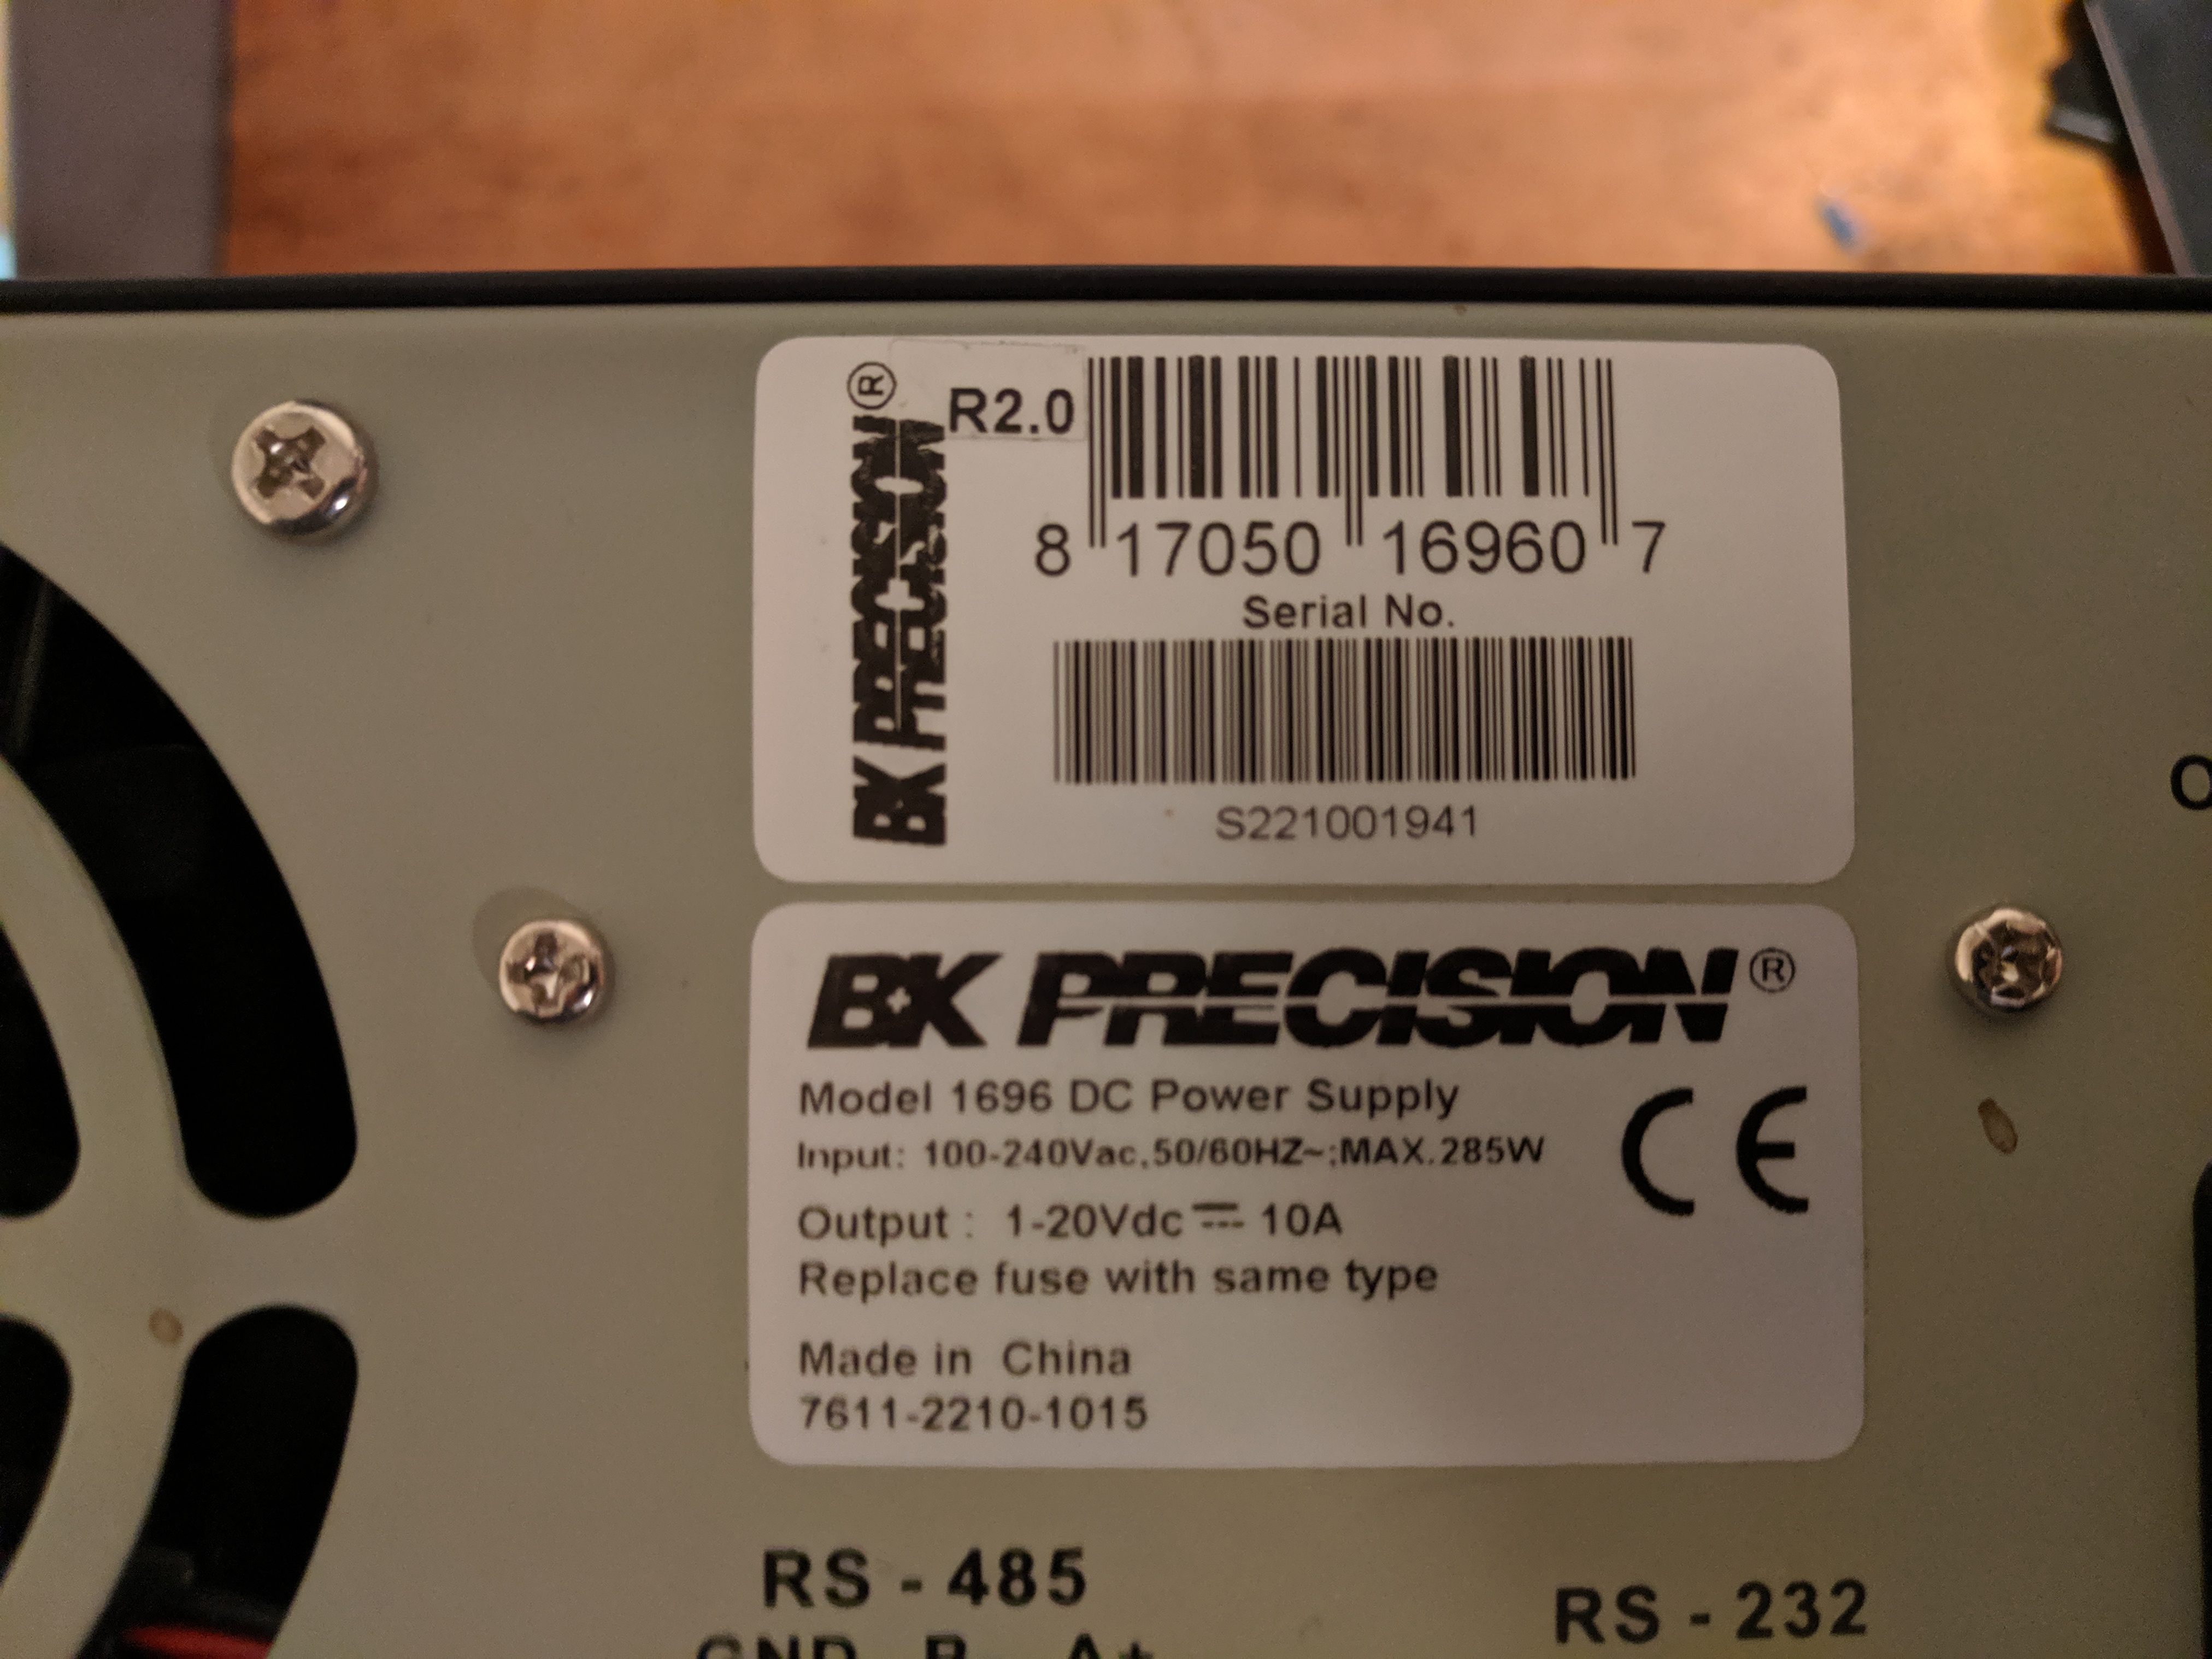cross_recessed_screw: (219, 392, 366, 537), (484, 915, 610, 1030), (1947, 904, 2067, 1019)
